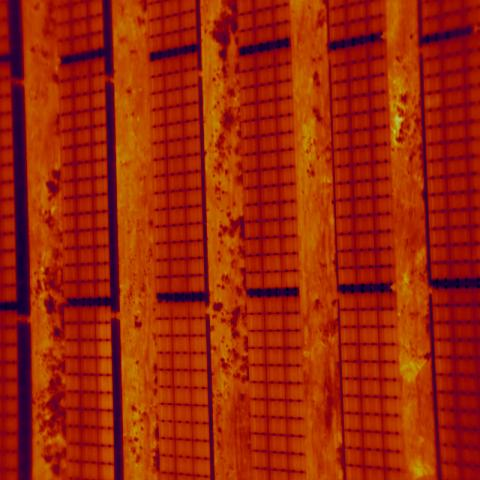fault: (96, 306, 114, 480), (424, 90, 445, 110)
